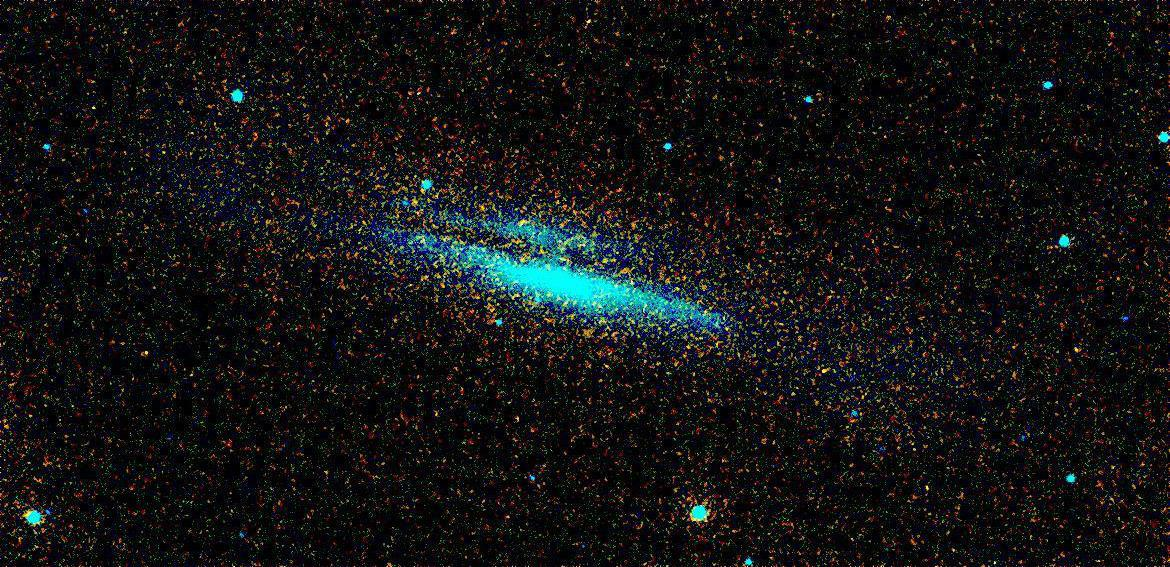star: (805, 356, 835, 386)
